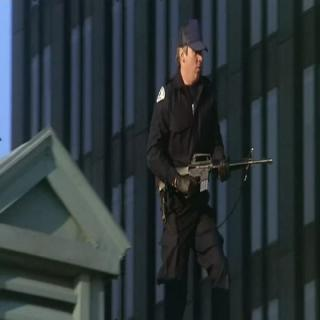gun: (154, 149, 274, 196)
